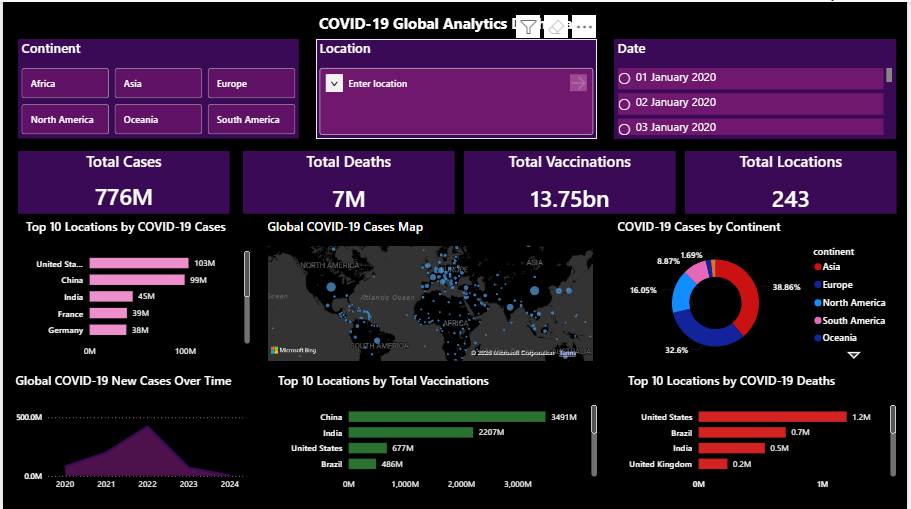

This screenshot's page, from the dashboard's own definition file:
{"tool":"powerbi","page":{"name":"Page 1","canvas":[1280,720],"ordinal":0},"visuals":[{"type":"textbox","box":[160.2,9.9,956.7,42.5],"z":0},{"type":"cardVisual","title":"Total Cases","fields":{"Data":["Sum(latest_data.total_cases)"]},"box":[21.3,211.2,300,89.3],"z":1000},{"type":"cardVisual","title":"Total Deaths","fields":{"Data":["Sum(latest_data.total_deaths)"]},"box":[340.2,211.2,300,89.3],"z":2000},{"type":"cardVisual","title":"Total Vaccinations","fields":{"Data":["Sum(latest_data.total_vaccinations)"]},"box":[653.4,211.2,300,89.3],"z":3000},{"type":"cardVisual","title":"Total Locations","fields":{"Data":["CountNonNull(latest_data.location)"]},"box":[966.6,211.2,300,89.3],"z":4000},{"type":"clusteredBarChart","title":"Top 10 Locations by COVID-19 Cases","fields":{"Category":["latest_data.location"],"Y":["Sum(latest_data.total_cases)"]},"box":[12.8,306.1,337.3,206.9],"z":5000},{"type":"clusteredBarChart","title":"Top 10 Locations by COVID-19 Deaths","fields":{"Category":["latest_data.location"],"Y":["Sum(latest_data.total_deaths)"]},"box":[866,524.4,399.7,177.2],"z":6000},{"type":"donutChart","title":"COVID-19 Cases by Continent","fields":{"Category":["latest_data.continent"],"Y":["Sum(latest_data.total_cases)"]},"box":[866,306.1,399.7,207],"z":7000},{"type":"lineChart","title":"Global COVID-19 New Cases Over Time","fields":{"Category":["covid_cleaned.date.Variation.Date Hierarchy.Year","covid_cleaned.date.Variation.Date Hierarchy.Month"],"Y":["Sum(covid_cleaned.new_cases)"]},"box":[12.8,524.4,337.3,177.2],"z":8000},{"type":"clusteredBarChart","title":"Top 10 Locations by Total Vaccinations","fields":{"Category":["latest_data.location"],"Y":["Sum(latest_data.total_vaccinations)"]},"box":[369.9,524.4,472,177.2],"z":9000},{"type":"map","title":"Global COVID-19 Cases Map","fields":{"Category":["latest_data.location"],"Size":["Sum(latest_data.total_cases)"]},"box":[369.9,306.1,472,206.9],"z":10000},{"type":"advancedSlicerVisual","title":"Continent","fields":{"Values":["covid_cleaned.continent"]},"box":[21.3,52.4,398.1,141.1],"z":11000},{"type":"textSlicer","title":"Location","fields":{"Values":["covid_cleaned.location"]},"box":[443.6,52.4,398,141.1],"z":12000},{"type":"listSlicer","title":"Date","fields":{"Values":["covid_cleaned.date"]},"box":[866,52.4,399.7,141.7],"z":13000}]}

Visuals, with their boxes on the page's 1280x720 design canvas (x1, y1, x2, y2). These are canvas units, not pixel positions in the 911x509 screenshot, which may show the page scaled, cropped or inside an application window:
textbox: crop(160, 10, 1117, 52)
"Total Cases" cardVisual: crop(21, 211, 321, 300)
"Total Deaths" cardVisual: crop(340, 211, 640, 300)
"Total Vaccinations" cardVisual: crop(653, 211, 953, 300)
"Total Locations" cardVisual: crop(967, 211, 1267, 300)
"Top 10 Locations by COVID-19 Cases" clusteredBarChart: crop(13, 306, 350, 513)
"Top 10 Locations by COVID-19 Deaths" clusteredBarChart: crop(866, 524, 1266, 702)
"COVID-19 Cases by Continent" donutChart: crop(866, 306, 1266, 513)
"Global COVID-19 New Cases Over Time" lineChart: crop(13, 524, 350, 702)
"Top 10 Locations by Total Vaccinations" clusteredBarChart: crop(370, 524, 842, 702)
"Global COVID-19 Cases Map" map: crop(370, 306, 842, 513)
"Continent" advancedSlicerVisual: crop(21, 52, 419, 194)
"Location" textSlicer: crop(444, 52, 842, 194)
"Date" listSlicer: crop(866, 52, 1266, 194)
